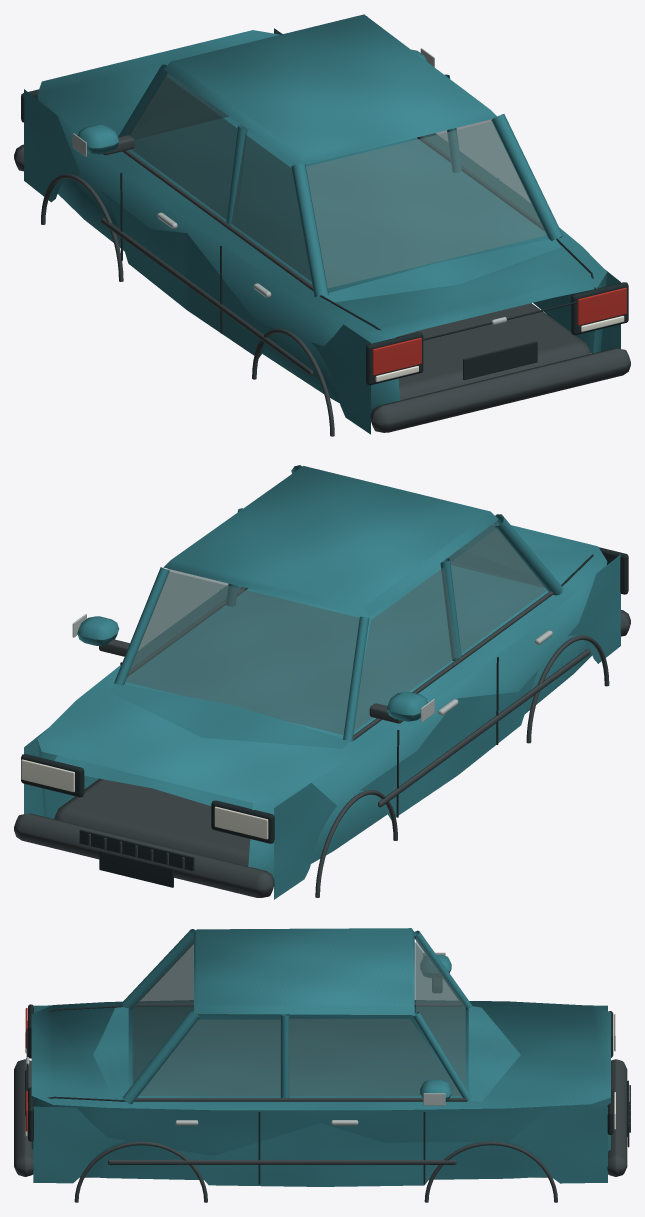
Rendered from A137_tide_hatchback_exterior.glb.
3 views of the same model, one above another, from view 1: azimuth 30°, elevation 25°; view 2: azimuth 150°, elevation 25°; view 3: azimuth 270°, elevation 25° (orthographic). The views are drawn at different scales.
Visible parts, largest first — view 1: Static SL Tide petrol blue enamel.003, Static SL Tide smoke glass.003, Static SL Tide charcoal bumper polymer.003, Static SL Tide dark panel gaps.003, Static SL Tide deep vermilion lamp lens.003, Static SL Tide satin aluminium.003, Static SL Tide warm ivory lamp lens.003; view 2: Static SL Tide petrol blue enamel.003, Static SL Tide smoke glass.003, Static SL Tide charcoal bumper polymer.003, Static SL Tide dark panel gaps.003, Static SL Tide warm ivory lamp lens.003, Static SL Tide satin aluminium.003; view 3: Static SL Tide petrol blue enamel.003, Static SL Tide smoke glass.003, Static SL Tide charcoal bumper polymer.003, Static SL Tide dark panel gaps.003, Static SL Tide satin aluminium.003.
Boxes of the visible parts, box(x1,y1,x2,y2) form: Static SL Tide petrol blue enamel.003: box(24, 14, 620, 434); Static SL Tide smoke glass.003: box(128, 73, 546, 288); Static SL Tide charcoal bumper polymer.003: box(14, 135, 630, 436); Static SL Tide dark panel gaps.003: box(21, 89, 628, 385); Static SL Tide deep vermilion lamp lens.003: box(372, 287, 626, 375); Static SL Tide satin aluminium.003: box(72, 48, 506, 325); Static SL Tide warm ivory lamp lens.003: box(375, 316, 624, 381); Static SL Tide petrol blue enamel.003: box(24, 465, 620, 899); Static SL Tide smoke glass.003: box(125, 522, 546, 734); Static SL Tide charcoal bumper polymer.003: box(14, 587, 630, 897); Static SL Tide dark panel gaps.003: box(21, 547, 628, 887); Static SL Tide warm ivory lamp lens.003: box(21, 759, 268, 839); Static SL Tide satin aluminium.003: box(72, 614, 552, 722); Static SL Tide petrol blue enamel.003: box(31, 928, 610, 1186); Static SL Tide smoke glass.003: box(132, 937, 465, 1096); Static SL Tide charcoal bumper polymer.003: box(14, 977, 630, 1202); Static SL Tide dark panel gaps.003: box(25, 1004, 629, 1184); Static SL Tide satin aluminium.003: box(26, 952, 445, 1125).
Size of the model in its own units: 2.35 by 1.39 by 4.34.
Materials: 7 (1 with a texture image).
